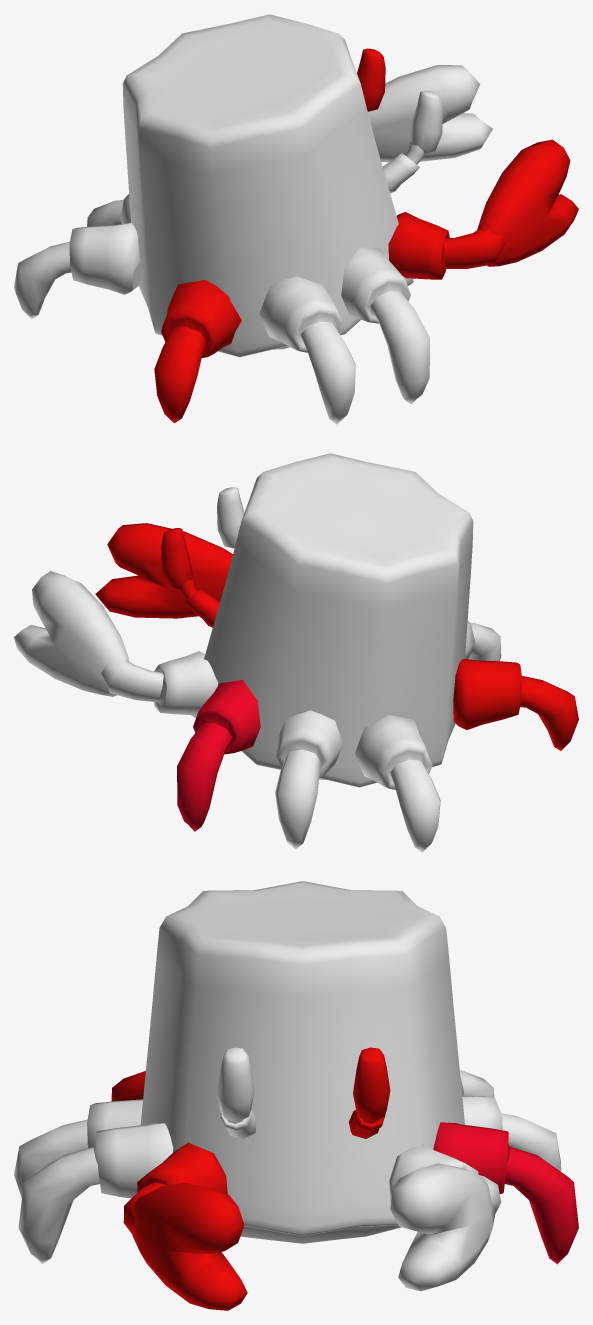
Rendered from crab.fbx.
3 views of the same model, one above another, from view 1: azimuth 30°, elevation 25°; view 2: azimuth 150°, elevation 25°; view 3: azimuth 270°, elevation 25° (orthographic). The views are drawn at different scales.
Parts seen in each view (by area): view 1: Cube.006, Cube.004, Cube.003, Cube.015, Cube.001, Cube.018, Cube.019, Cube.008, Cube.009, Cube.016, Cube.017, Cube.011 (+4 smaller); view 2: Cube.006, Cube.003, Cube.004, Cube.019, Cube.002, Cube.015, Cube.010, Cube.011, Cube.013, Cube.012, Cube.014, Cube.009 (+4 smaller); view 3: Cube.006, Cube.004, Cube.003, Cube.001, Cube.002, Cube.017, Cube.013, Cube.016, Cube.008, Cube, Cube.005, Cube.010 (+8 smaller).
Part boxes in pixels (x1,y1,x2,y2): Cube.006: (122, 14, 413, 357); Cube.004: (444, 139, 578, 268); Cube.003: (368, 65, 492, 162); Cube.015: (69, 223, 139, 294); Cube.001: (370, 291, 429, 404); Cube.018: (259, 276, 344, 352); Cube.019: (161, 279, 241, 357); Cube.008: (300, 321, 355, 424); Cube.009: (154, 327, 205, 423); Cube.016: (388, 212, 449, 279); Cube.017: (341, 247, 410, 323); Cube.011: (14, 242, 140, 318); Cube.006: (191, 453, 473, 787); Cube.003: (14, 571, 163, 702); Cube.004: (95, 523, 232, 618); Cube.019: (453, 659, 522, 729); Cube.002: (177, 723, 232, 831); Cube.015: (354, 715, 432, 789); Cube.010: (275, 749, 320, 849); Cube.011: (390, 759, 440, 852); Cube.013: (193, 680, 260, 754); Cube.012: (153, 651, 218, 715); Cube.014: (276, 710, 343, 777); Cube.009: (520, 676, 578, 750); Cube.006: (140, 881, 464, 1236); Cube.004: (123, 1182, 247, 1310); Cube.003: (390, 1163, 501, 1291); Cube.001: (18, 1147, 99, 1264); Cube.002: (505, 1147, 578, 1264); Cube.017: (93, 1123, 173, 1198); Cube.013: (433, 1122, 510, 1193); Cube.016: (137, 1142, 227, 1193); Cube.008: (14, 1119, 87, 1198); Cube: (217, 1047, 254, 1123); Cube.005: (353, 1047, 390, 1123); Cube.010: (501, 1113, 561, 1171).
Bounding box in the file's own units: 365 × 217 × 333.
